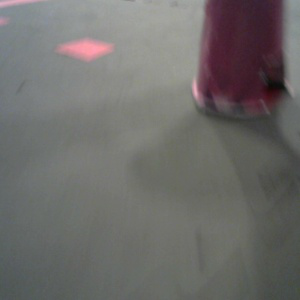right: (191, 1, 295, 120)
